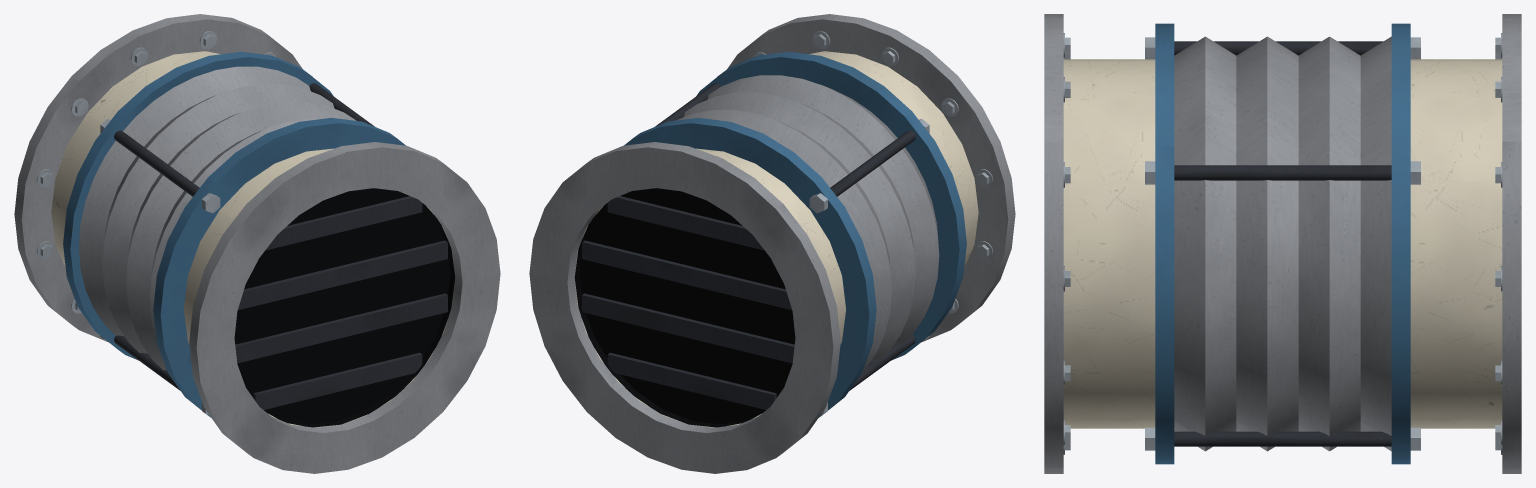
Rendered from main_pipe_extension.glb.
3 views of the same model, side by side, from view 1: azimuth 30°, elevation 25°; view 2: azimuth 150°, elevation 25°; view 3: azimuth 270°, elevation 25° (orthographic). The views are drawn at different scales.
Visible parts, largest first — view 1: Body.008; view 2: Body.008; view 3: Body.008.
Part boxes in pixels (bbox=[...]): Body.008: bbox=[14, 14, 500, 473]; Body.008: bbox=[529, 14, 1015, 473]; Body.008: bbox=[1044, 14, 1521, 473].
Bounding box in the file's own units: 0.72 × 0.72 × 0.747.
Materials: 6 (5 with a texture image).
